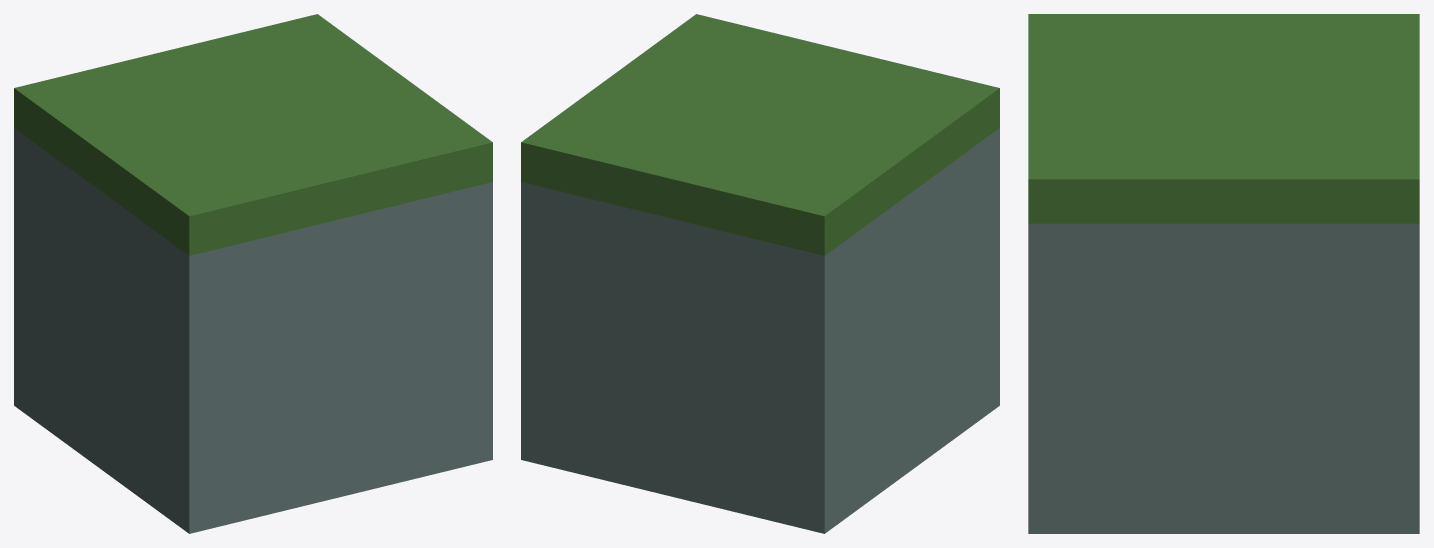
File: Block_Grass1.fbx
3 views of the same model, side by side, from view 1: azimuth 30°, elevation 25°; view 2: azimuth 150°, elevation 25°; view 3: azimuth 270°, elevation 25° (orthographic). The views are drawn at different scales.
Parts seen in each view (by area): view 1: Block_Grass1; view 2: Block_Grass1; view 3: Block_Grass1.
Part boxes in pixels (<box>): Block_Grass1: <box>14,14,492,533</box>; Block_Grass1: <box>521,14,999,533</box>; Block_Grass1: <box>1028,14,1419,533</box>.
Size of the model in its own units: 2 by 2 by 2.
Materials: 1 (1 with a texture image).
